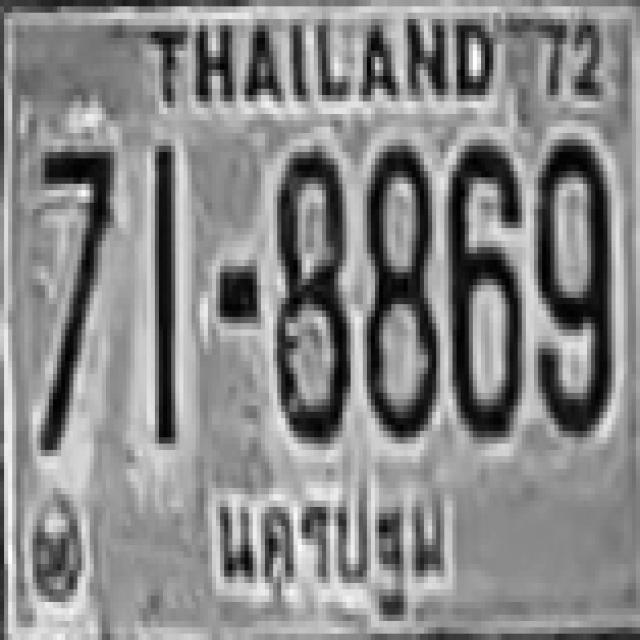1: (153, 142, 173, 440)
6: (444, 136, 518, 434)
7: (37, 142, 110, 446)
8: (273, 140, 347, 438), (363, 139, 432, 431)
9: (534, 133, 607, 431)
NakhonPathom: (203, 461, 459, 615)
